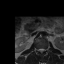CCS_normal: (40, 46, 42, 55)
LFS_normal: (44, 47, 46, 52)
LLS_normal: (42, 46, 44, 53)
RFS_normal: (36, 47, 38, 53)
RLS_normal: (38, 47, 40, 53)
